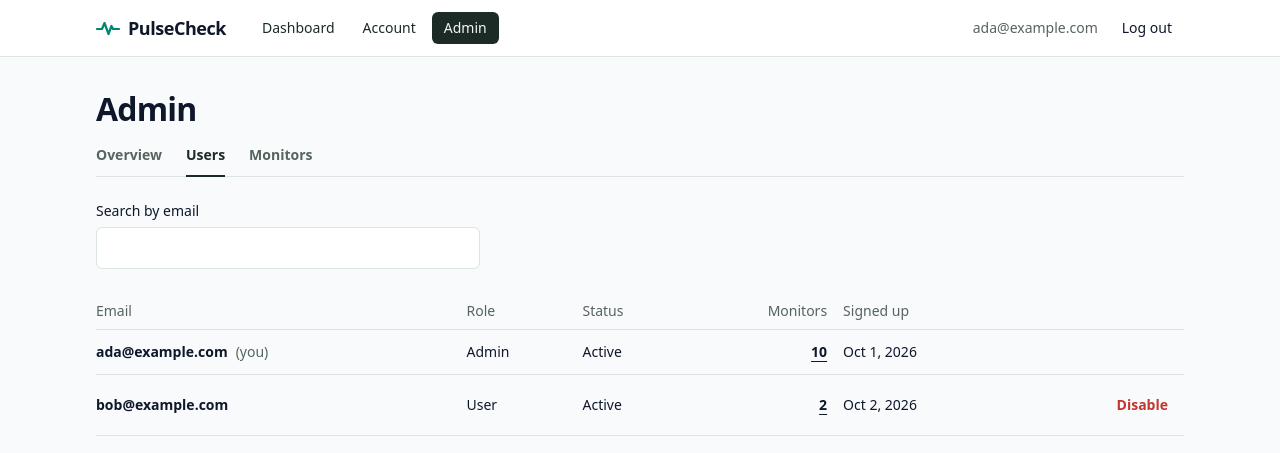
Test: Admin monitors tab › links a user's monitor count to their monitors, which lists URLs and owners
Expected: the link "Monitors" is shown, [249,145,312,164]
Expected: the link "Overview" is shown, [96,145,162,164]
Click the link named "View 2 monitors of bob@example.com" at (823, 404), box [819,395,827,414]
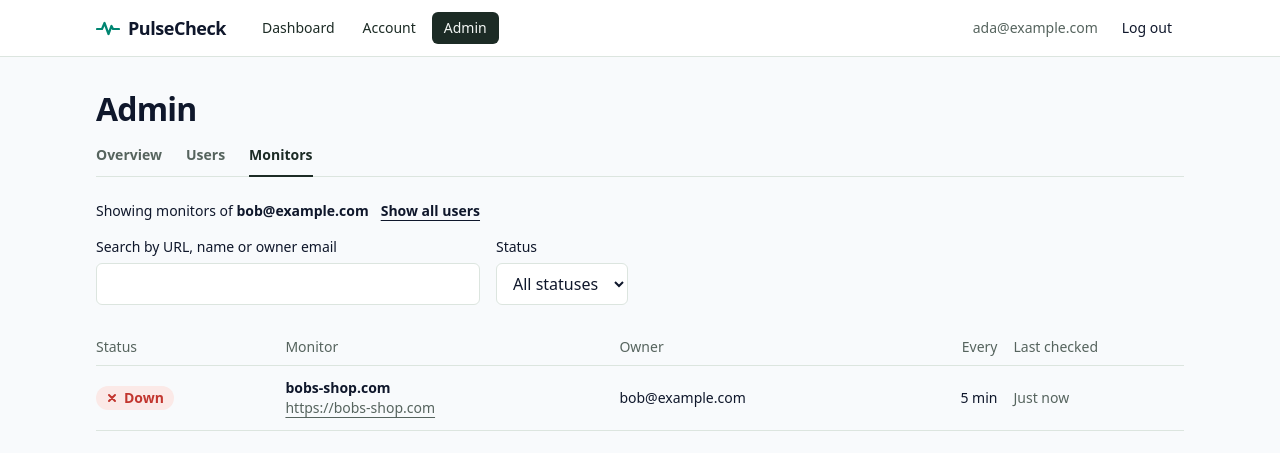
Now the text "Showing monitors of bob@example.com" is shown, box [96,201,369,221]
